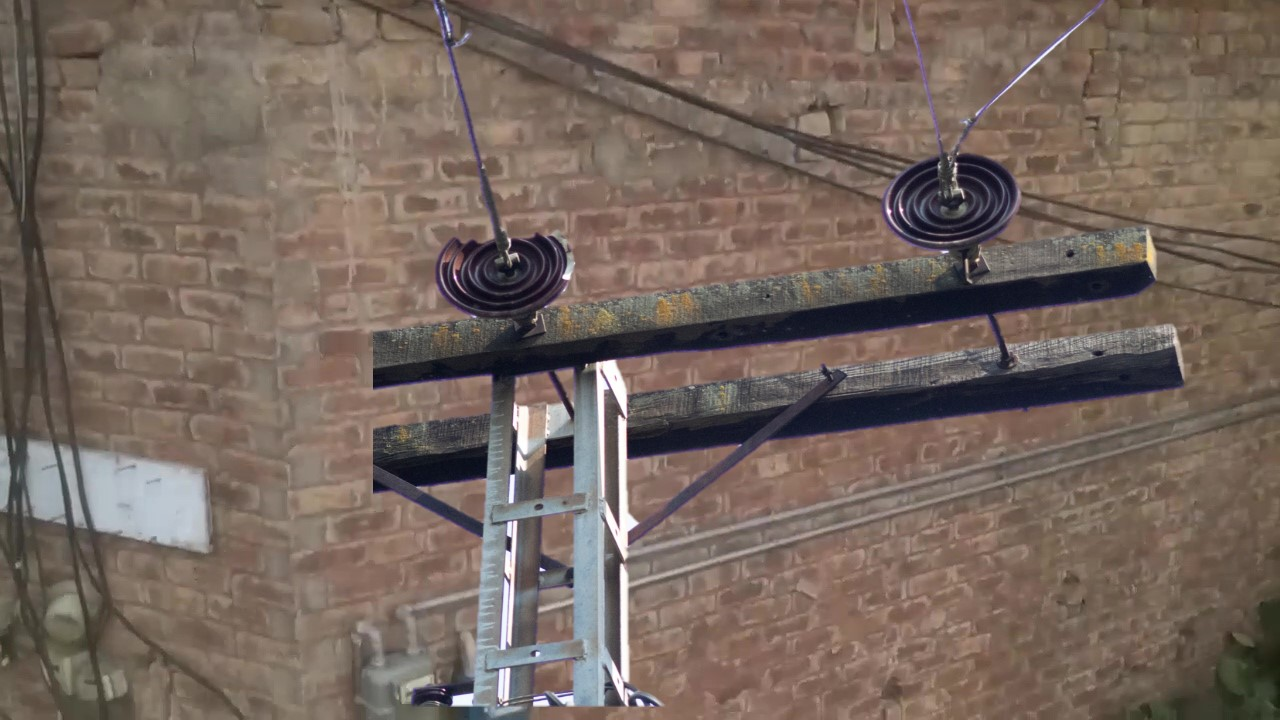defect_disc: (432, 225, 584, 316)
insulator_disc: (882, 151, 1026, 250)
